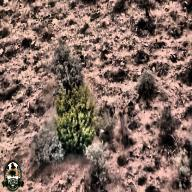boar: (117, 99, 133, 142)
